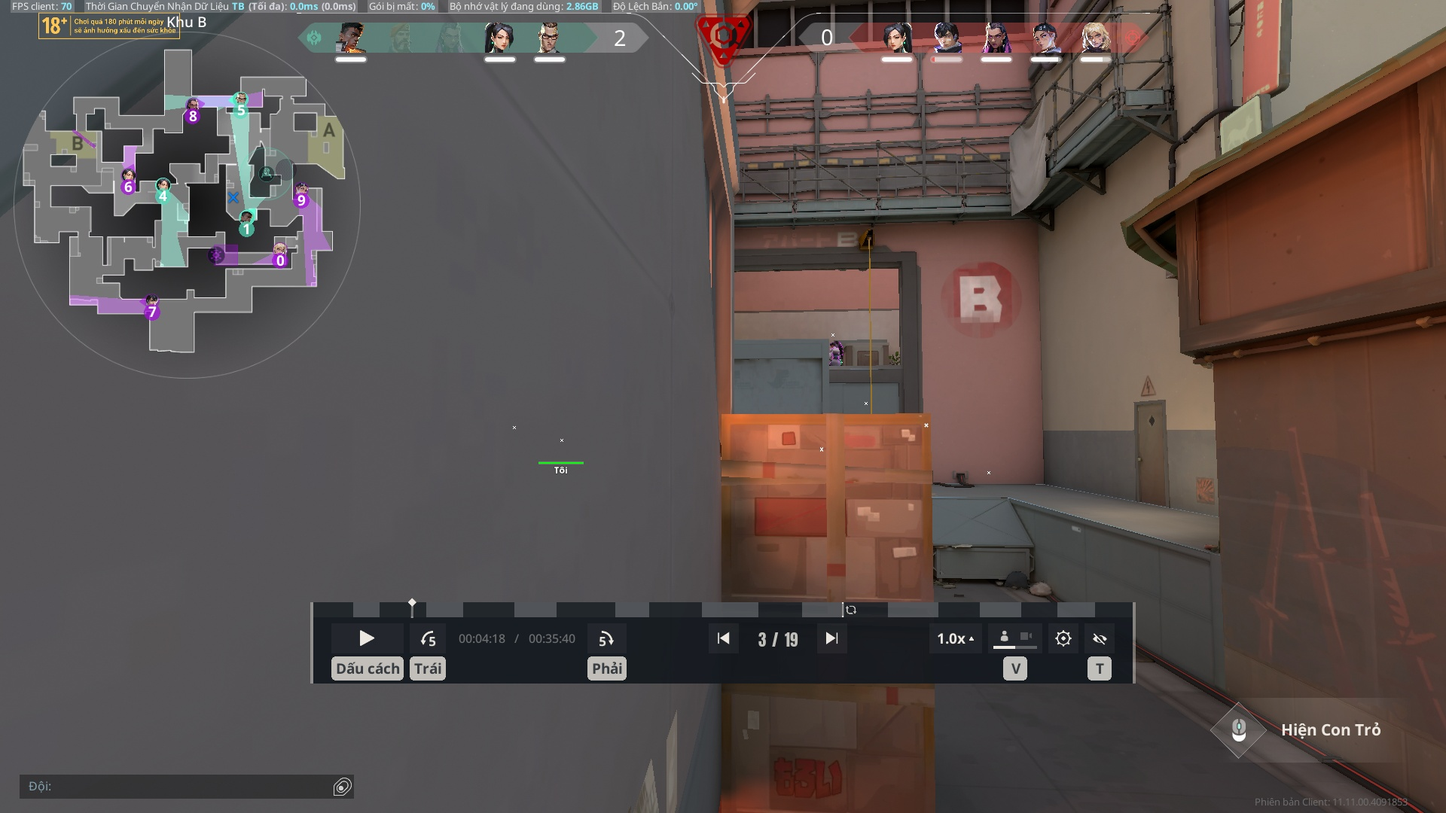body: (828, 346, 841, 364)
head: (830, 340, 835, 347)
